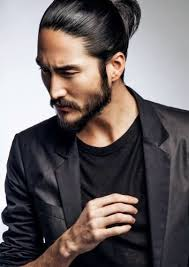asian_male: (28, 1, 143, 136)
